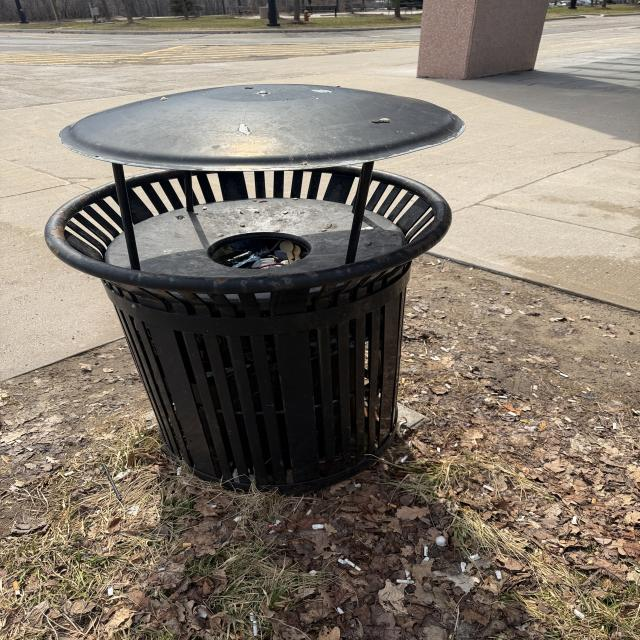Dustbin: (39, 85, 467, 488)
